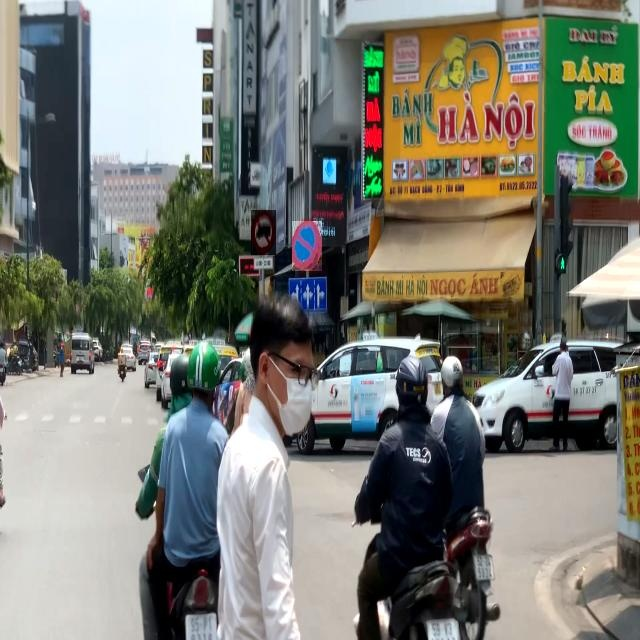bien_cam: (292, 221, 322, 271), (251, 210, 276, 255)
